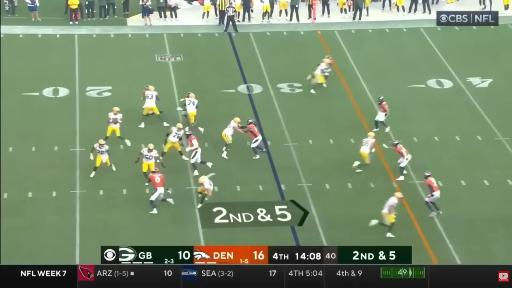Helmet: (152, 167, 163, 175), (147, 144, 156, 152), (424, 172, 432, 180), (377, 96, 385, 104), (98, 139, 105, 148), (394, 193, 403, 200), (113, 107, 121, 114), (185, 131, 193, 138), (391, 140, 399, 147), (367, 132, 375, 139), (233, 117, 242, 123), (199, 176, 205, 184), (247, 119, 255, 124), (189, 94, 196, 99), (177, 123, 182, 130), (149, 86, 155, 91), (324, 60, 329, 65), (144, 86, 148, 89)
Jersey: (382, 196, 398, 214), (425, 177, 439, 195), (168, 127, 184, 142), (149, 173, 164, 188), (142, 148, 158, 162), (108, 112, 122, 127), (360, 138, 375, 152), (224, 121, 237, 136), (145, 91, 157, 107), (94, 144, 108, 157), (395, 145, 409, 158), (247, 124, 259, 139), (315, 63, 329, 75), (186, 99, 198, 112), (202, 179, 213, 189), (188, 136, 198, 147), (379, 102, 388, 113)
Player: (369, 192, 403, 237), (185, 131, 212, 175), (148, 168, 174, 213), (104, 107, 130, 146), (162, 123, 188, 160), (242, 119, 266, 159), (136, 144, 164, 178), (90, 140, 115, 177), (353, 132, 375, 172), (307, 59, 332, 93), (222, 118, 242, 158), (424, 172, 442, 216), (392, 141, 411, 180), (393, 141, 411, 180), (177, 93, 198, 126), (374, 96, 390, 132), (198, 174, 214, 208), (143, 86, 160, 117), (321, 56, 333, 86)
